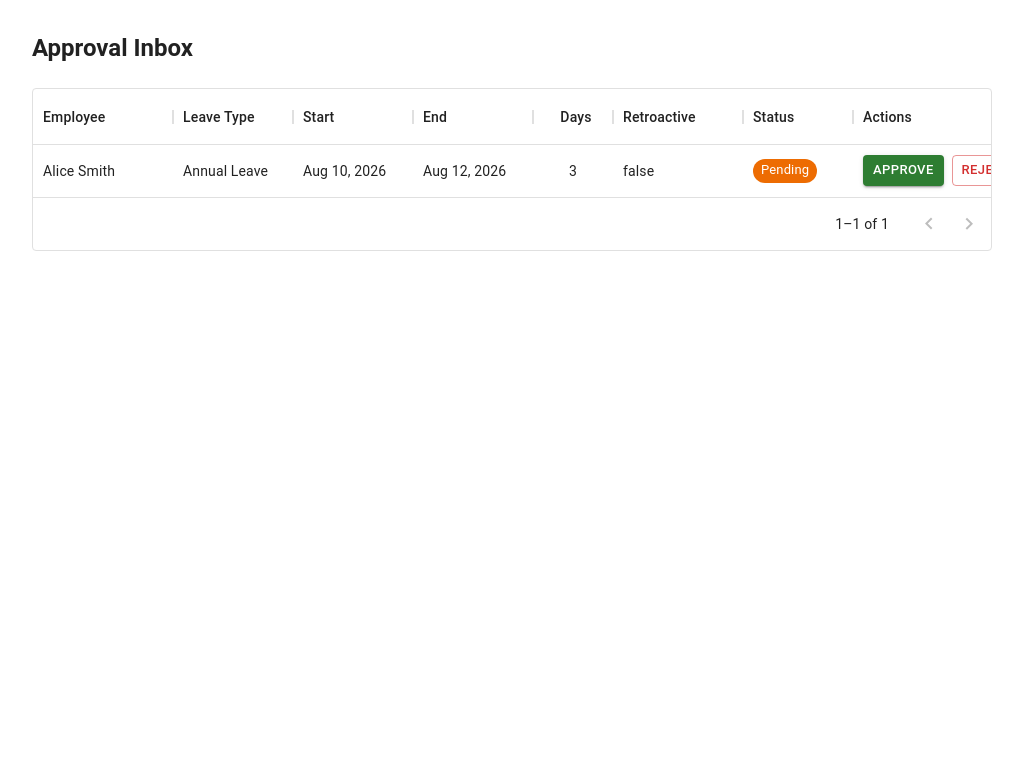
Test case: UT-FE-39: Approve removes row optimistically › shows success snackbar after approve
Click the button with test id "approve-btn-lr-001" at (903, 170), box [863,155,944,186]
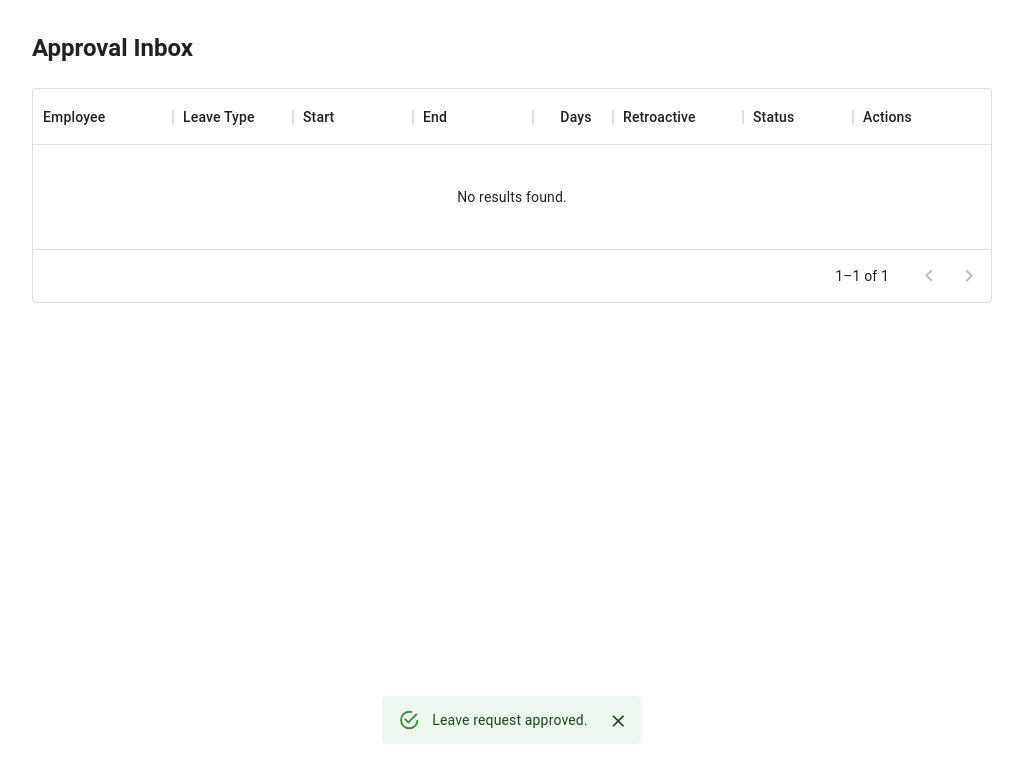
Expected: the text "Leave request approved." is shown, [432,712,588,728]
